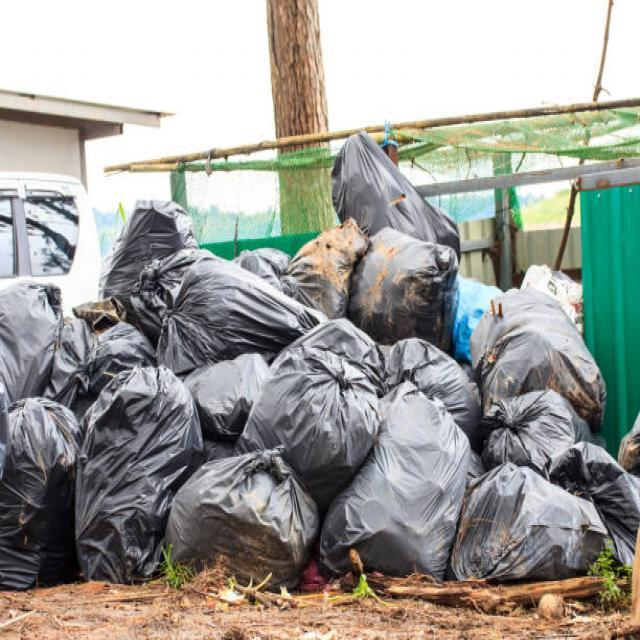garbage: (0, 126, 640, 592)
